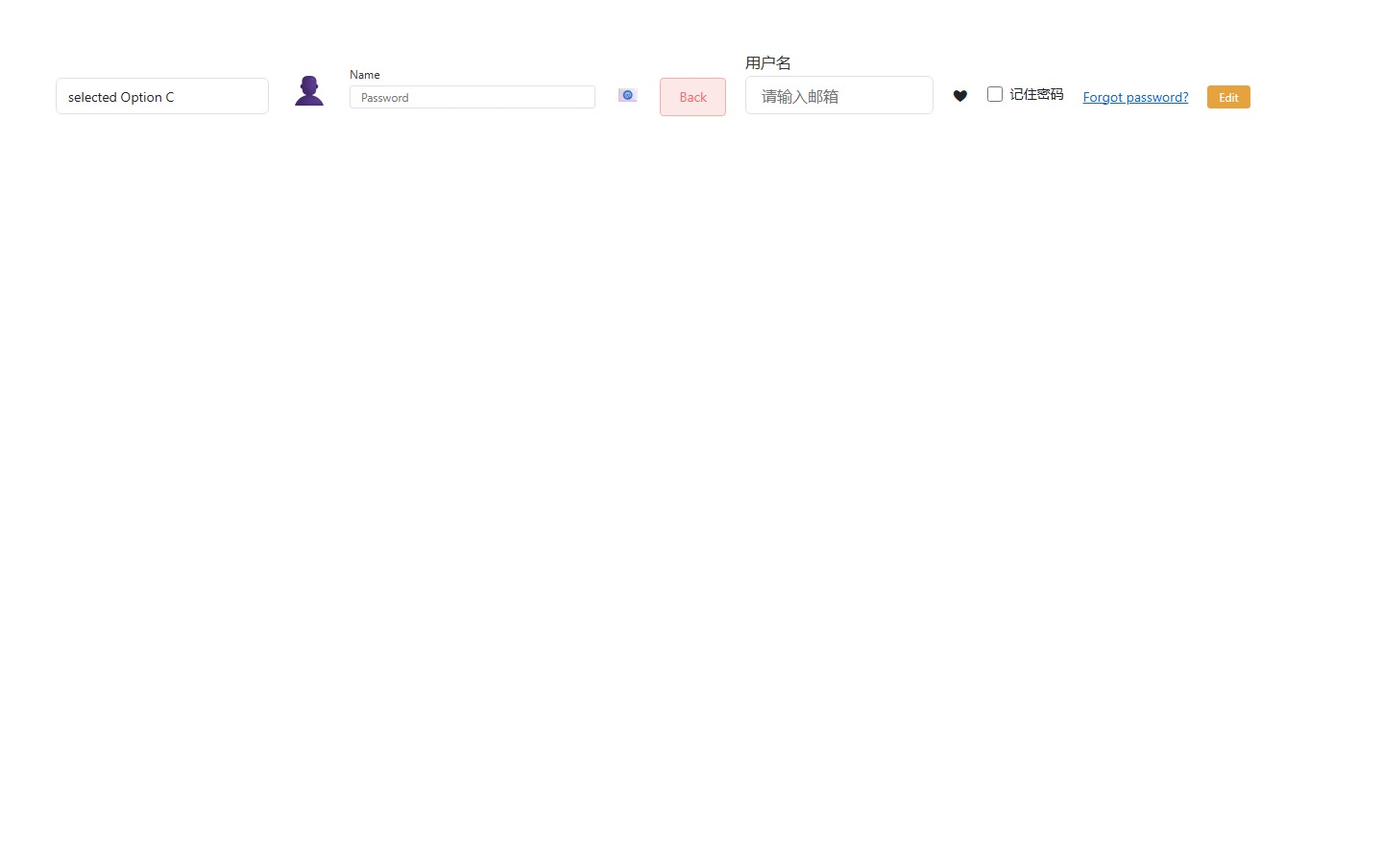button: (660, 77, 726, 116), (1208, 85, 1250, 108)
checkbox: (987, 86, 1002, 101)
icon: (288, 73, 330, 104), (1010, 84, 1064, 103), (615, 84, 641, 103), (953, 88, 968, 103)
input: (745, 76, 934, 114), (350, 85, 595, 108)
link: (1083, 87, 1188, 105)
radio: (987, 84, 1064, 103)
select: (56, 78, 269, 114)
